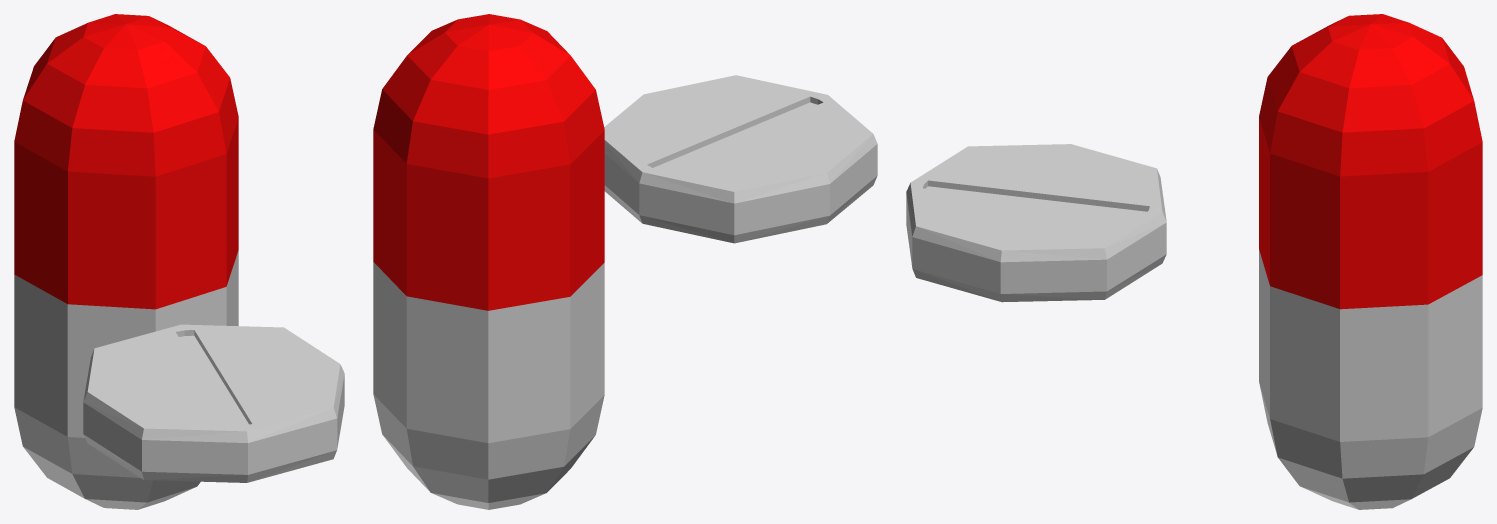
The model's file is medical.glb.
3 renders of one model, left to right at view 1: azimuth 30°, elevation 25°; view 2: azimuth 150°, elevation 25°; view 3: azimuth 270°, elevation 25°, orthographic.
Visible parts, largest first — view 1: Node; view 2: Node; view 3: Node.
Boxes of the visible parts, x1,y1,x2,y2 form: Node: (14,14,344,509); Node: (373,14,877,509); Node: (906,14,1482,509).
Bounding box in the file's own units: 2.59 × 4.07 × 4.47.
